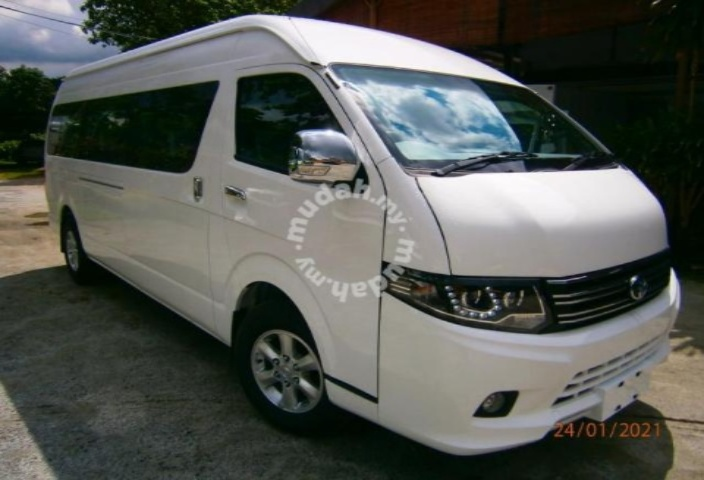van: (29, 25, 704, 464)
